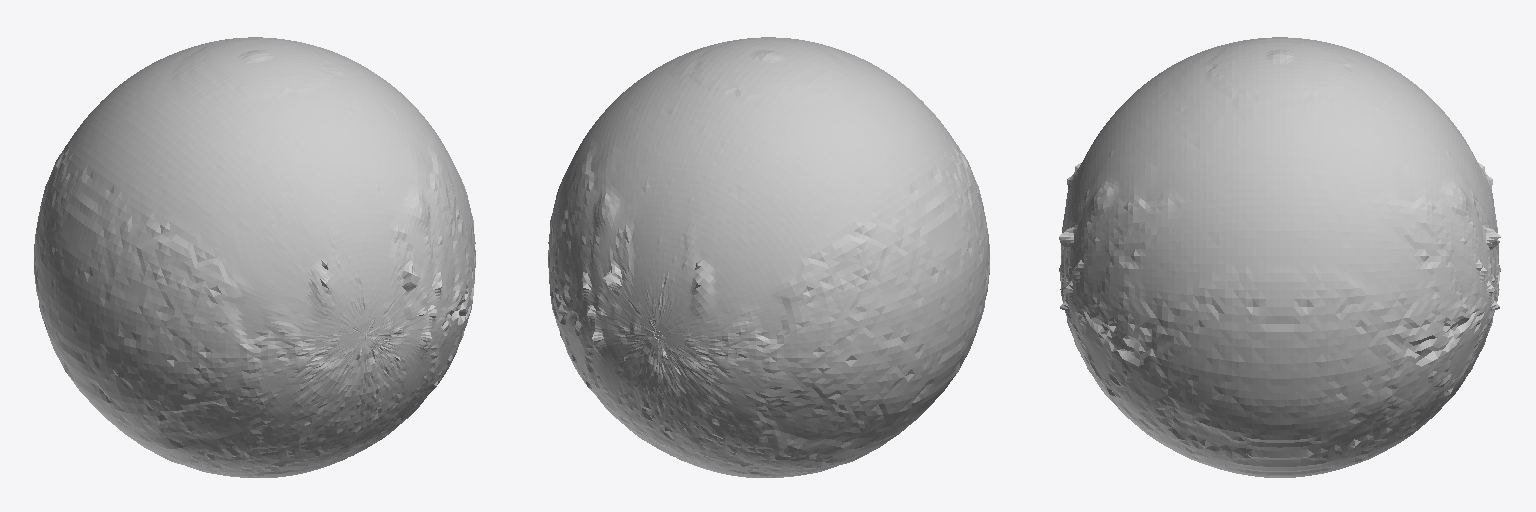
The model's file is self_made_7.obj.
3 views of the same model, side by side, from view 1: azimuth 30°, elevation 25°; view 2: azimuth 150°, elevation 25°; view 3: azimuth 270°, elevation 25° (orthographic).
Parts seen in each view (by area): view 1: Sphere; view 2: Sphere; view 3: Sphere.
Part boxes in pixels (x1,y1,x2,y2): Sphere: (34, 37, 475, 477); Sphere: (548, 37, 989, 477); Sphere: (1059, 37, 1500, 477).
Size of the model in its own units: 2.01 by 2.03 by 2.02.